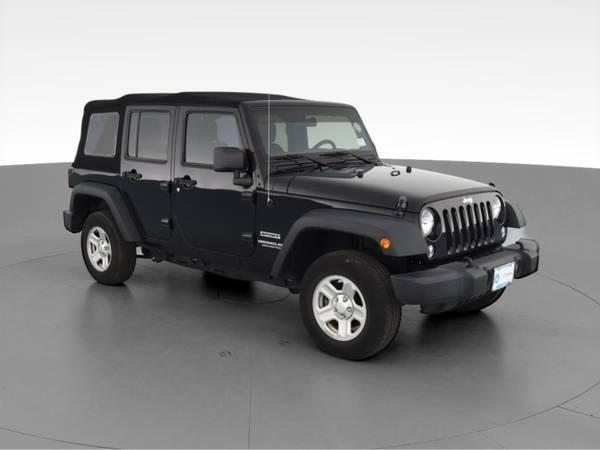Front_Bumper: (394, 237, 545, 303)
Front_Fender: (252, 172, 424, 281)
Front_Right_Door: (168, 162, 255, 278)
Front_Right_Window: (171, 106, 253, 172)
Front_Windshield: (246, 103, 381, 169)
Grille: (425, 194, 510, 263)
Hood: (268, 163, 508, 212)
Left_Headlight: (492, 194, 509, 226)
Rear_Bumper: (62, 208, 81, 233)
Rear_Fender: (68, 111, 140, 246)
Rear_Right_Door: (117, 160, 170, 259)
Rear_Right_Window: (120, 106, 176, 165)
Right_Headlight: (418, 207, 444, 244)
Roof: (84, 89, 353, 173)
Wheel: (298, 250, 400, 358), (77, 213, 137, 285)
